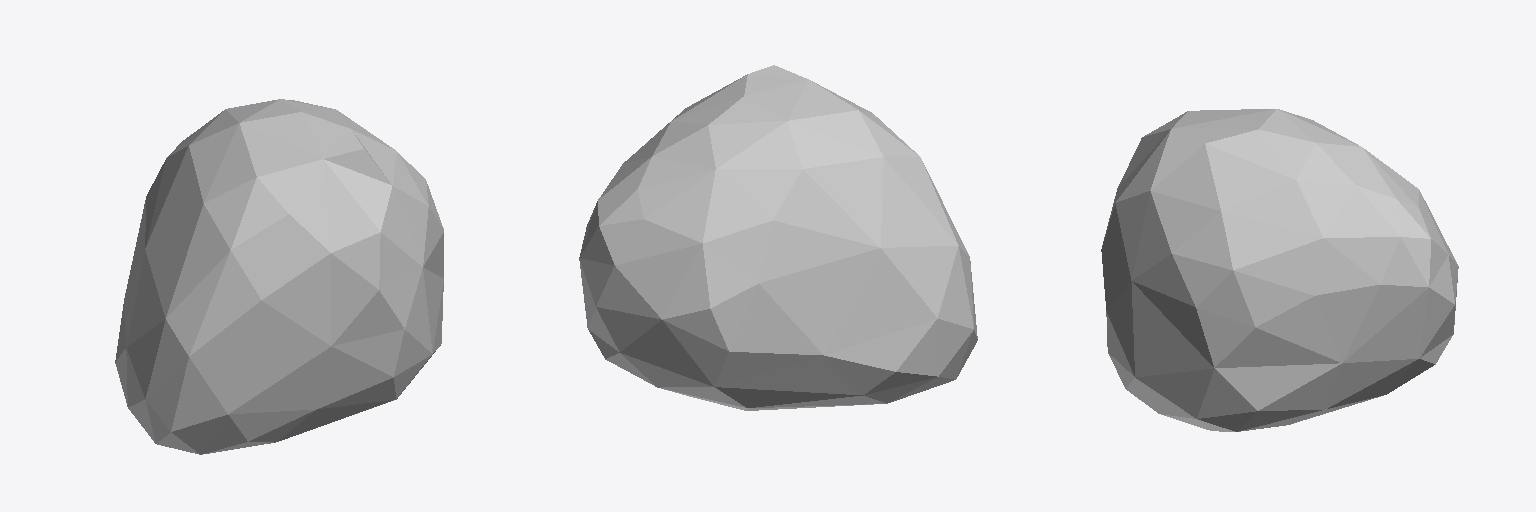
Rendered from Rock_3_L_Color1.obj.
The picture shows the model from 3 angles: view 1: azimuth 30°, elevation 25°; view 2: azimuth 150°, elevation 25°; view 3: azimuth 270°, elevation 25°; orthographic projection.
Visible parts, largest first — view 1: Rock_3_L_Color1; view 2: Rock_3_L_Color1; view 3: Rock_3_L_Color1.
Part boxes in pixels (x1,y1,x2,y2): Rock_3_L_Color1: (115,99,443,454); Rock_3_L_Color1: (579,65,977,410); Rock_3_L_Color1: (1101,109,1458,431).
Bounding box in the file's own units: 2.62 × 2.27 × 2.56.